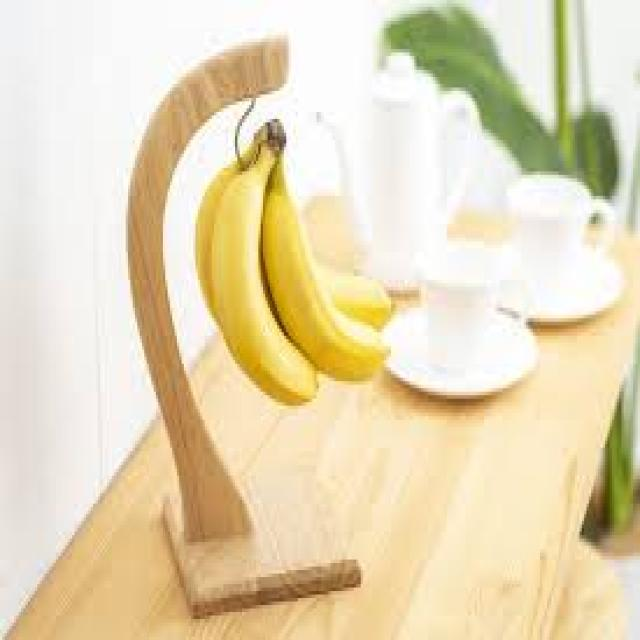Banana: (195, 122, 396, 406)
